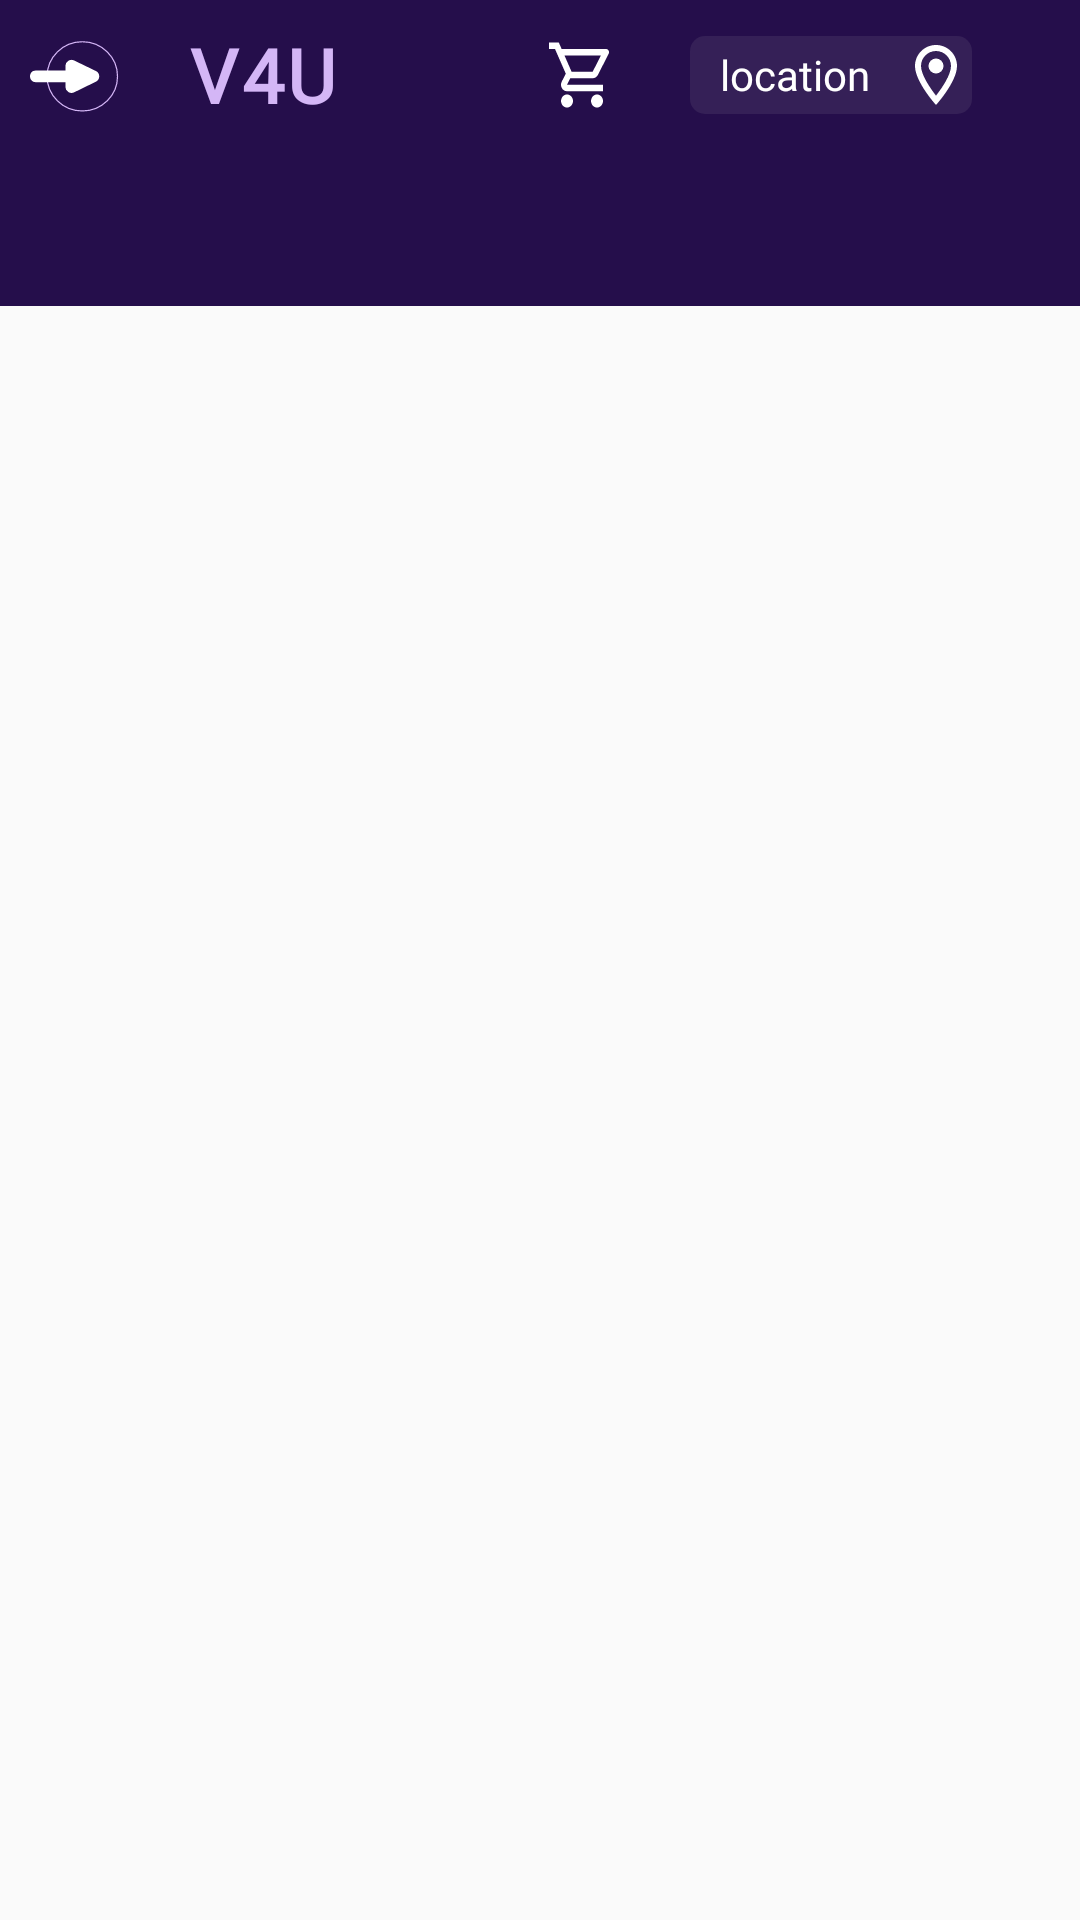

Icons on this 1080×1920 Android screen, each with the point to tap as [x,y]:
shopping cart: [579,75]
